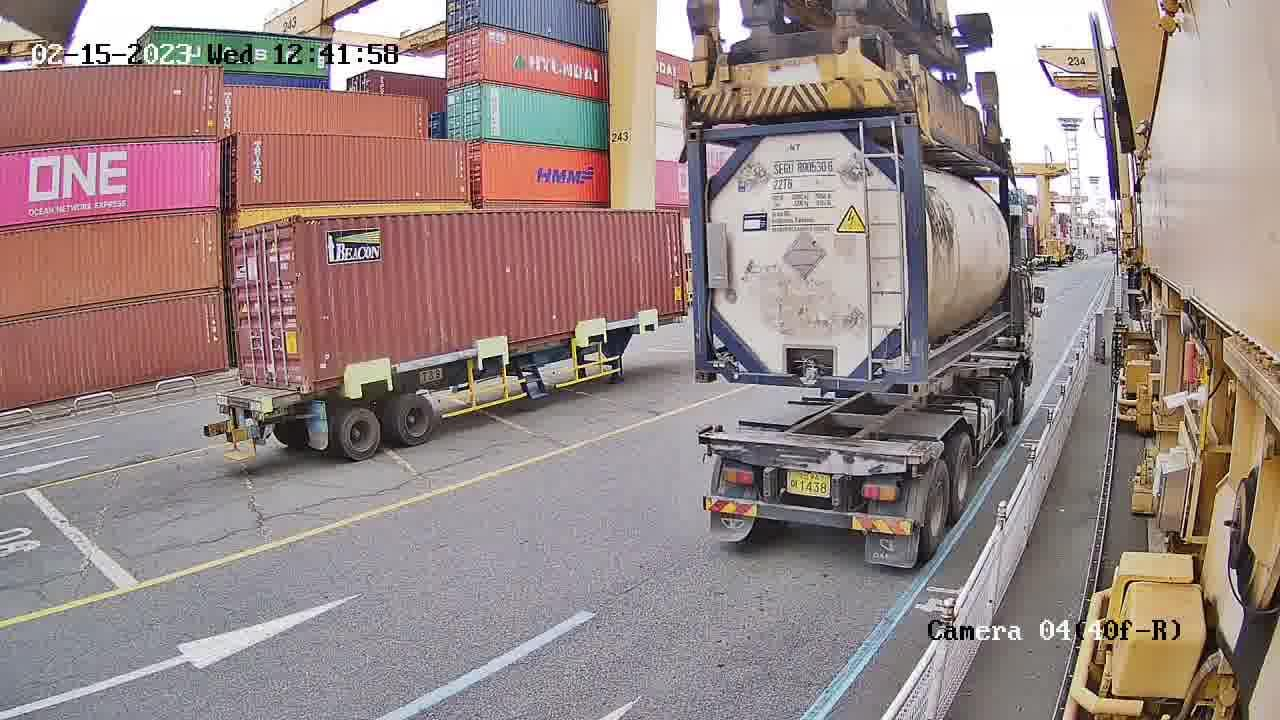Chassis: (697, 436, 926, 474)
Cone: (905, 454, 924, 482), (693, 438, 711, 463)
Hole_L: (693, 345, 731, 384), (921, 344, 947, 401)
Hole_R: (883, 357, 924, 398)
Tire: (918, 462, 950, 554), (951, 440, 974, 510)
